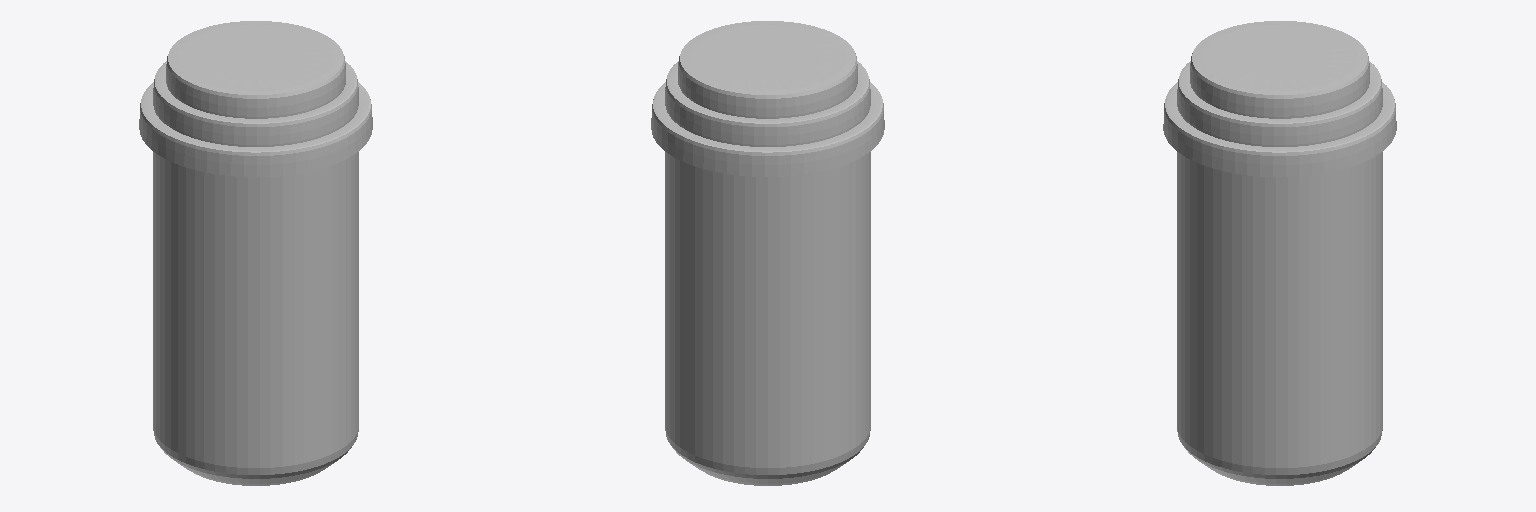
File: Battle grounds pain reliever.obj
The picture shows the model from 3 angles: view 1: azimuth 30°, elevation 25°; view 2: azimuth 150°, elevation 25°; view 3: azimuth 270°, elevation 25°; orthographic projection.
Parts seen in each view (by area): view 1: Cylinder001, Object001; view 2: Cylinder001, Object001; view 3: Cylinder001, Object001.
Part boxes in pixels (x1,y1,x2,y2): Cylinder001: (153, 152, 358, 485); Object001: (139, 21, 372, 176); Cylinder001: (665, 152, 870, 485); Object001: (651, 21, 884, 176); Cylinder001: (1177, 152, 1382, 485); Object001: (1163, 21, 1396, 176).
Size of the model in its own units: 107 by 202 by 107.